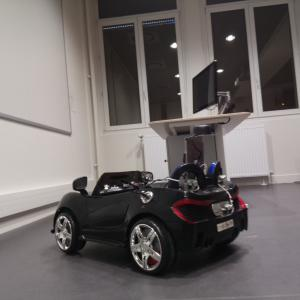big: (50, 160, 251, 275)
